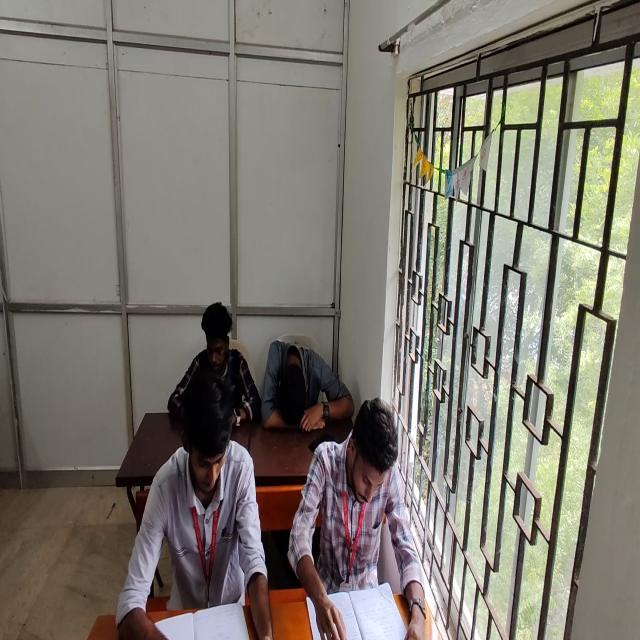reading: (118, 367, 272, 640), (290, 396, 412, 639)
sleeping: (262, 338, 350, 431)
using_mobile: (169, 300, 262, 427)
